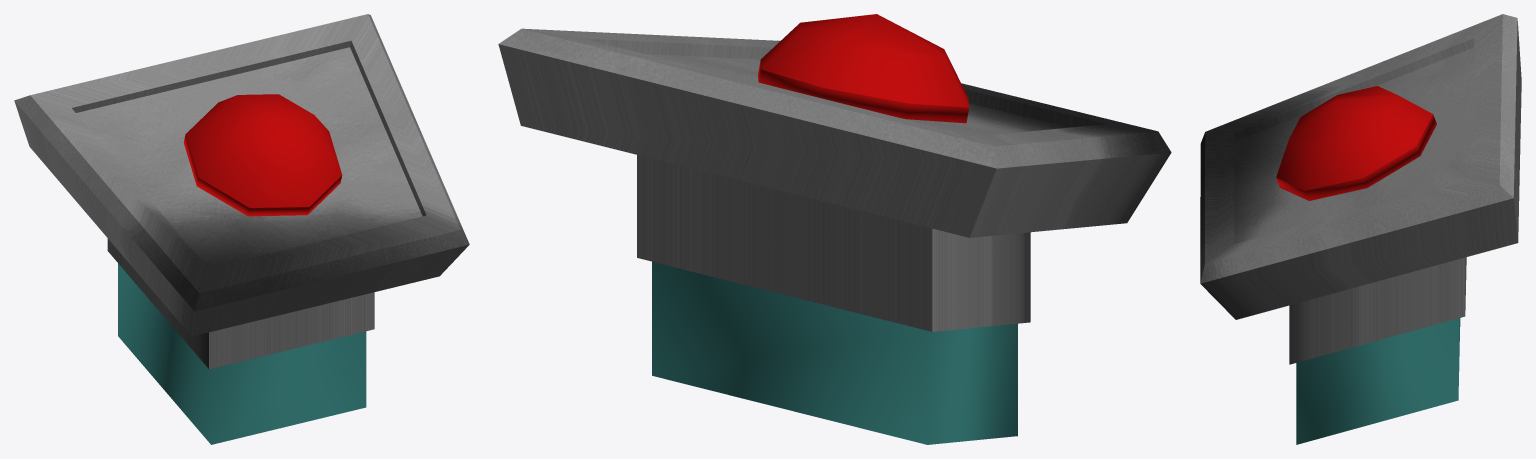
File: MemeFactory_RedButton_Art.fbx
The picture shows the model from 3 angles, left to right: view 1: azimuth 30°, elevation 25°; view 2: azimuth 150°, elevation 25°; view 3: azimuth 270°, elevation 25°; orthographic projection. The views are drawn at different scales.
Parts seen in each view (by area): view 1: MemeFactory_RedButton_Art; view 2: MemeFactory_RedButton_Art; view 3: MemeFactory_RedButton_Art.
Boxes of the visible parts, x1=… form: MemeFactory_RedButton_Art: x1=14, y1=14, x2=469, y2=444; MemeFactory_RedButton_Art: x1=498, y1=14, x2=1171, y2=444; MemeFactory_RedButton_Art: x1=1200, y1=14, x2=1521, y2=444.
Size of the model in its own units: 143 by 115 by 108.
